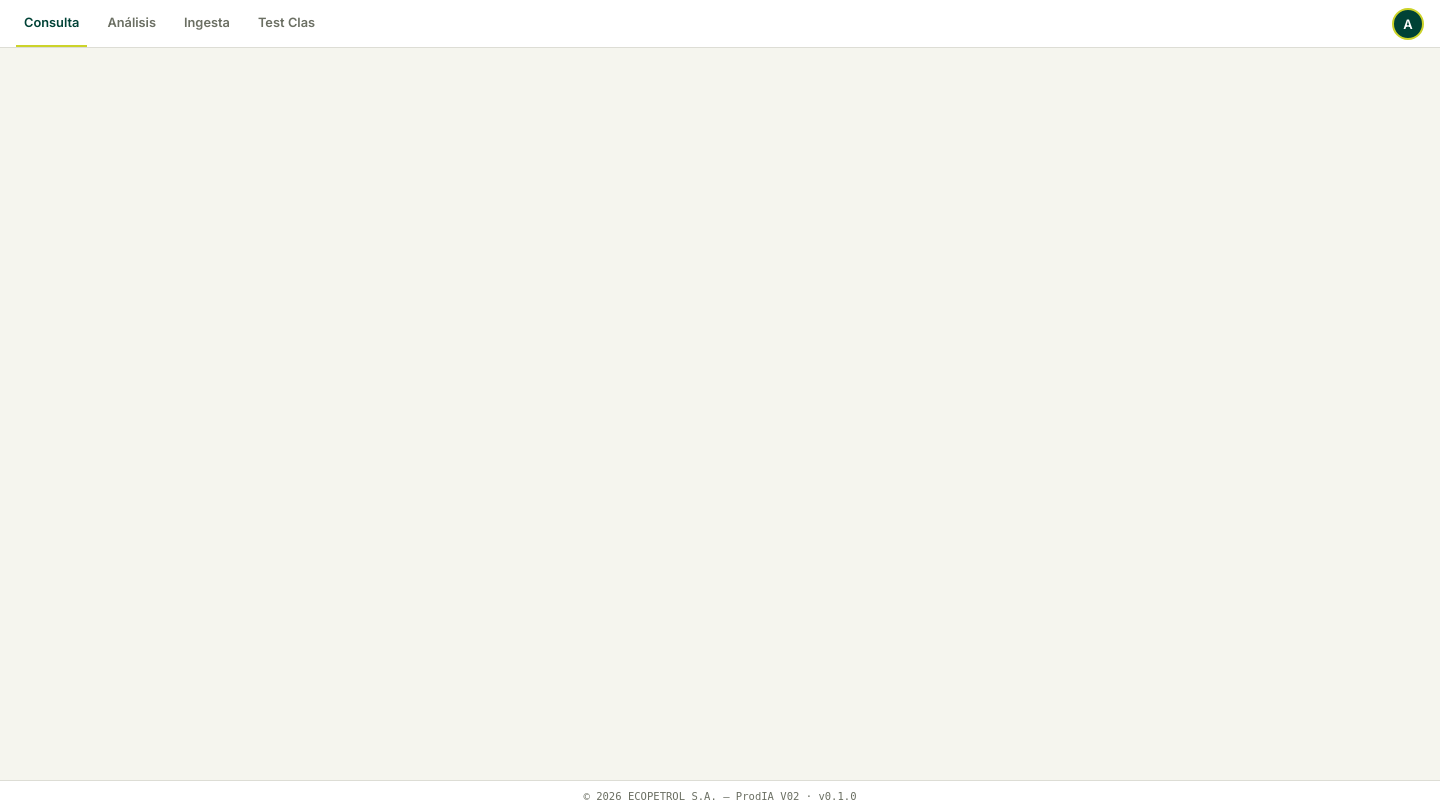
it: LayoutMain › el clic en el avatar abre el menú, y repetirlo lo cierra
Click the button named "Menú de usuario" at (1408, 24), box top-left (1392, 8), bottom-right (1424, 40)
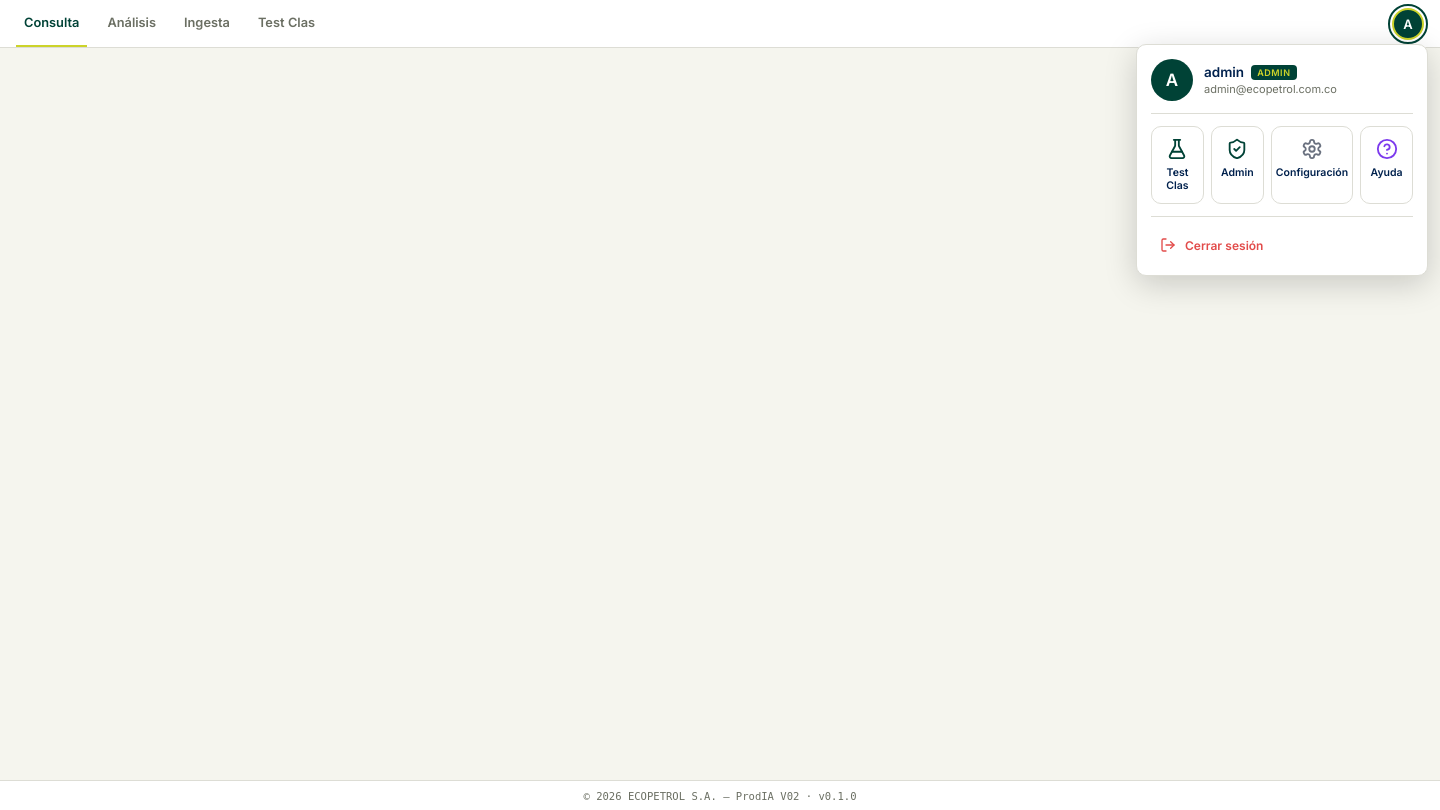
expect the menu is shown: met, box top-left (1136, 44), bottom-right (1428, 276)
Click the button named "Menú de usuario" at (1408, 24), box top-left (1392, 8), bottom-right (1424, 40)
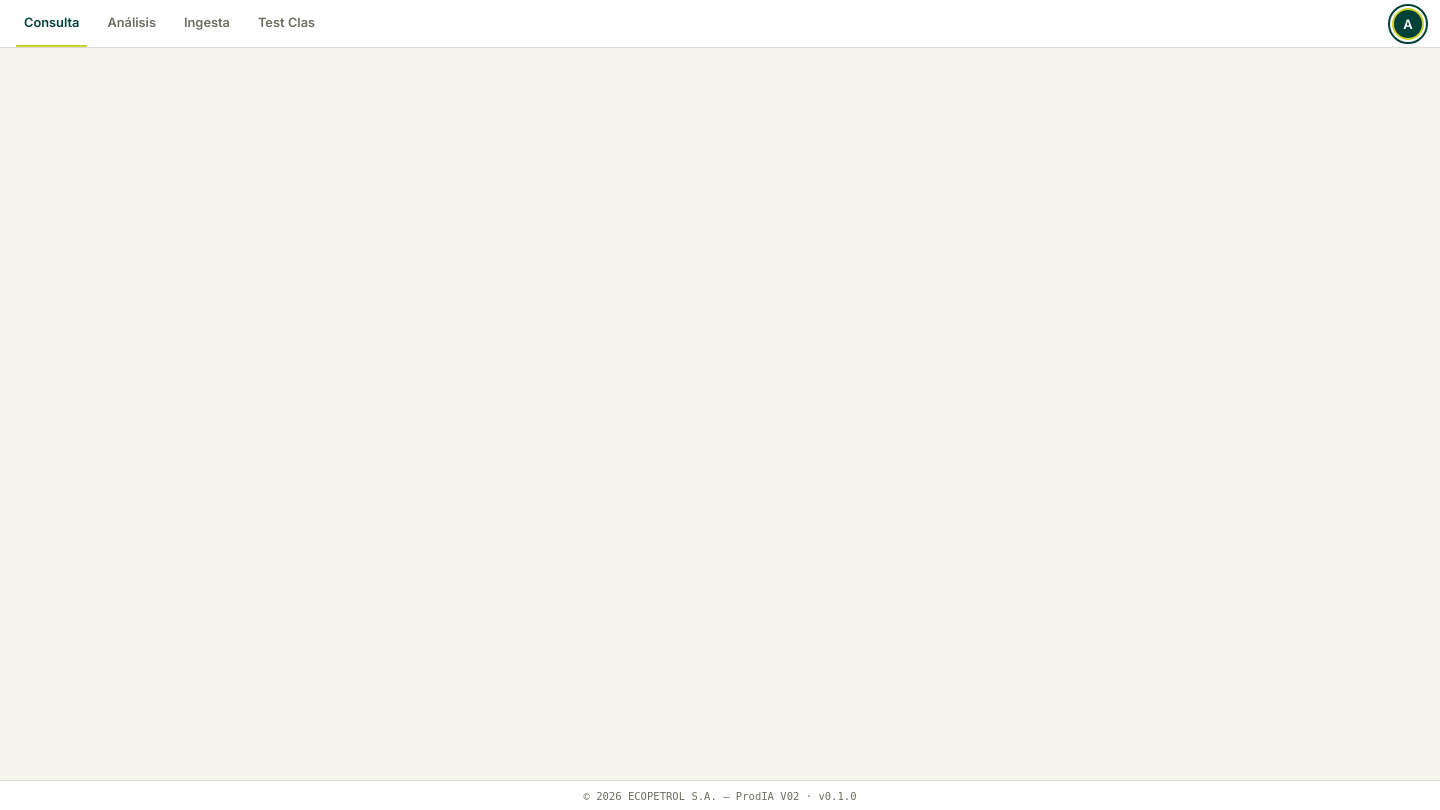
expect the menu is gone: met
